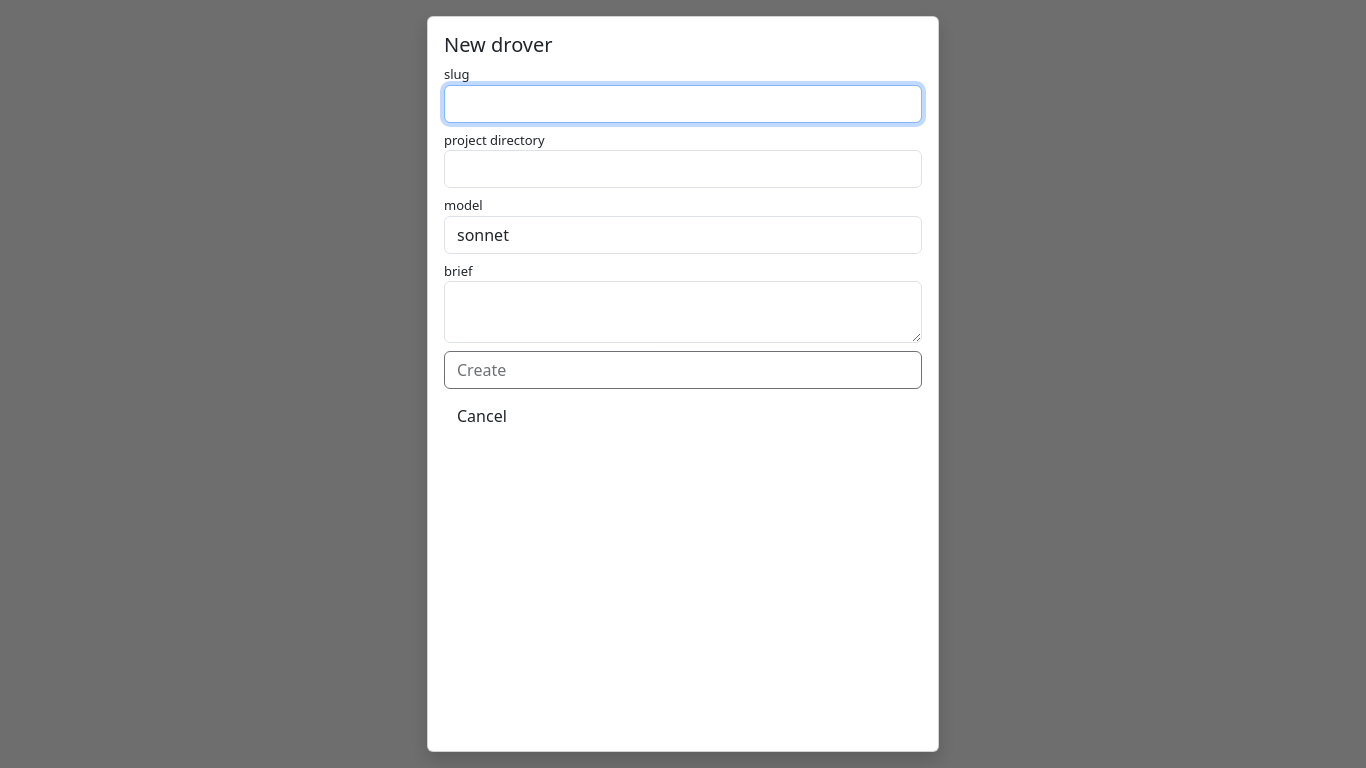
Test: NewDroverDialog › validates slug, submits, shows error
In the field with test id "new-slug": (683, 104) [444,84,922,122], type "Bad Slug"
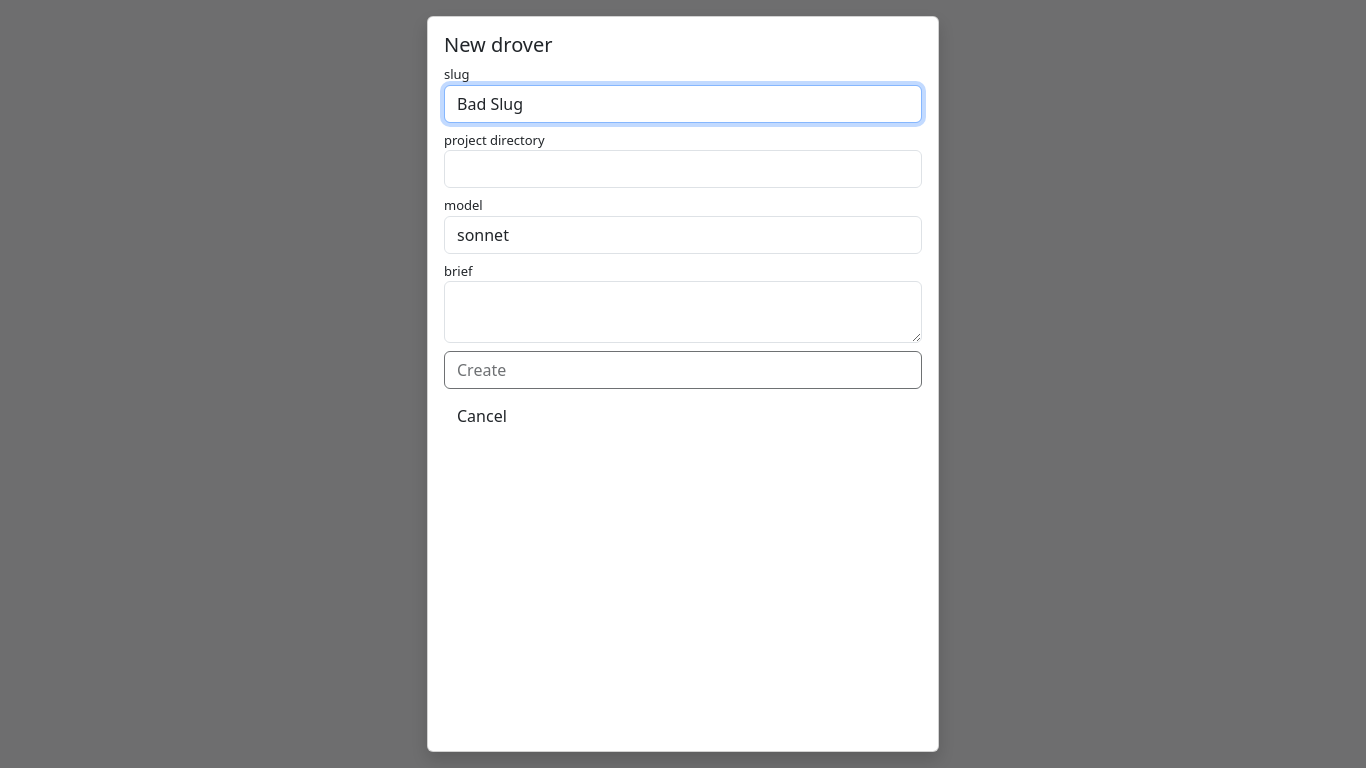
In the field with test id "new-dir": (683, 169) [444,150,922,188], type "/x"
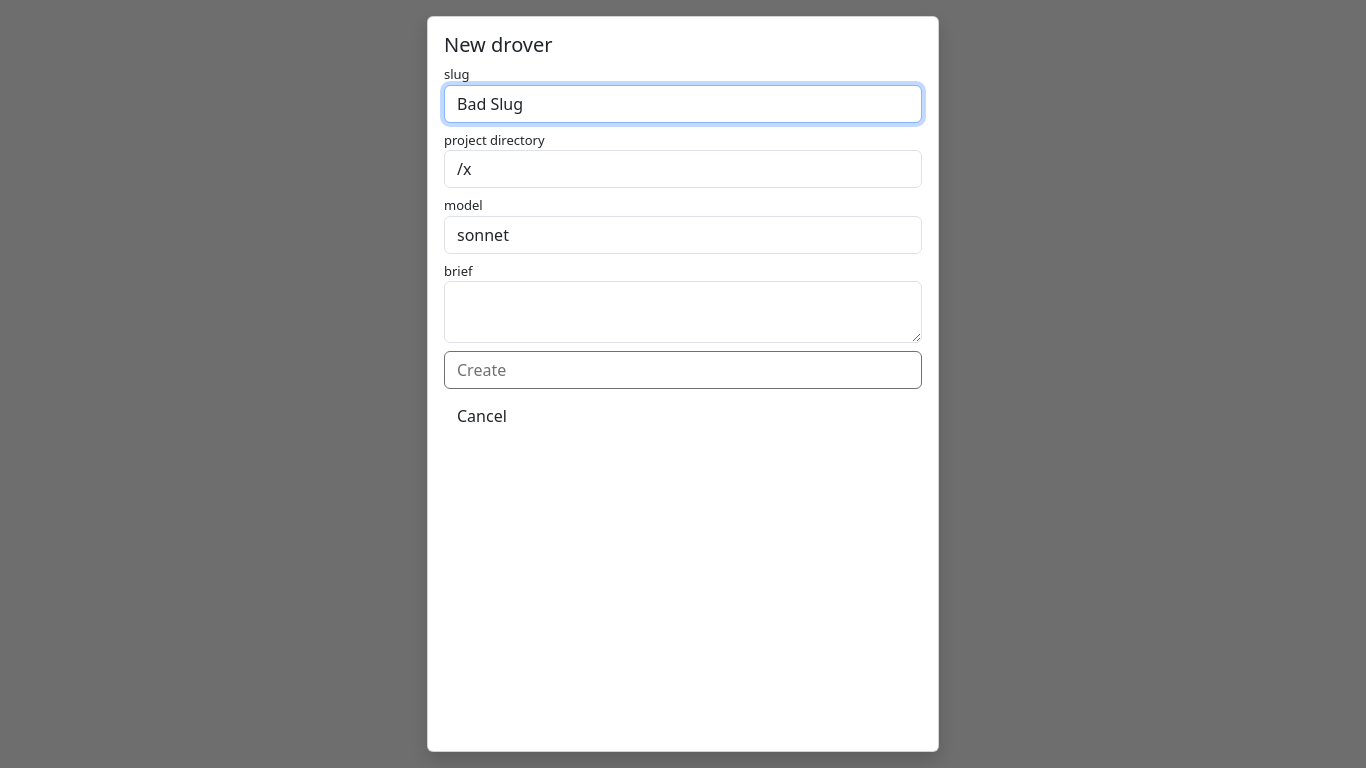
Expected: the button with test id "new-submit" is disabled, [444,351,922,389]
Replace the text in the field with test id "new-slug" with "good-slug": (683, 104) [444,84,922,122]
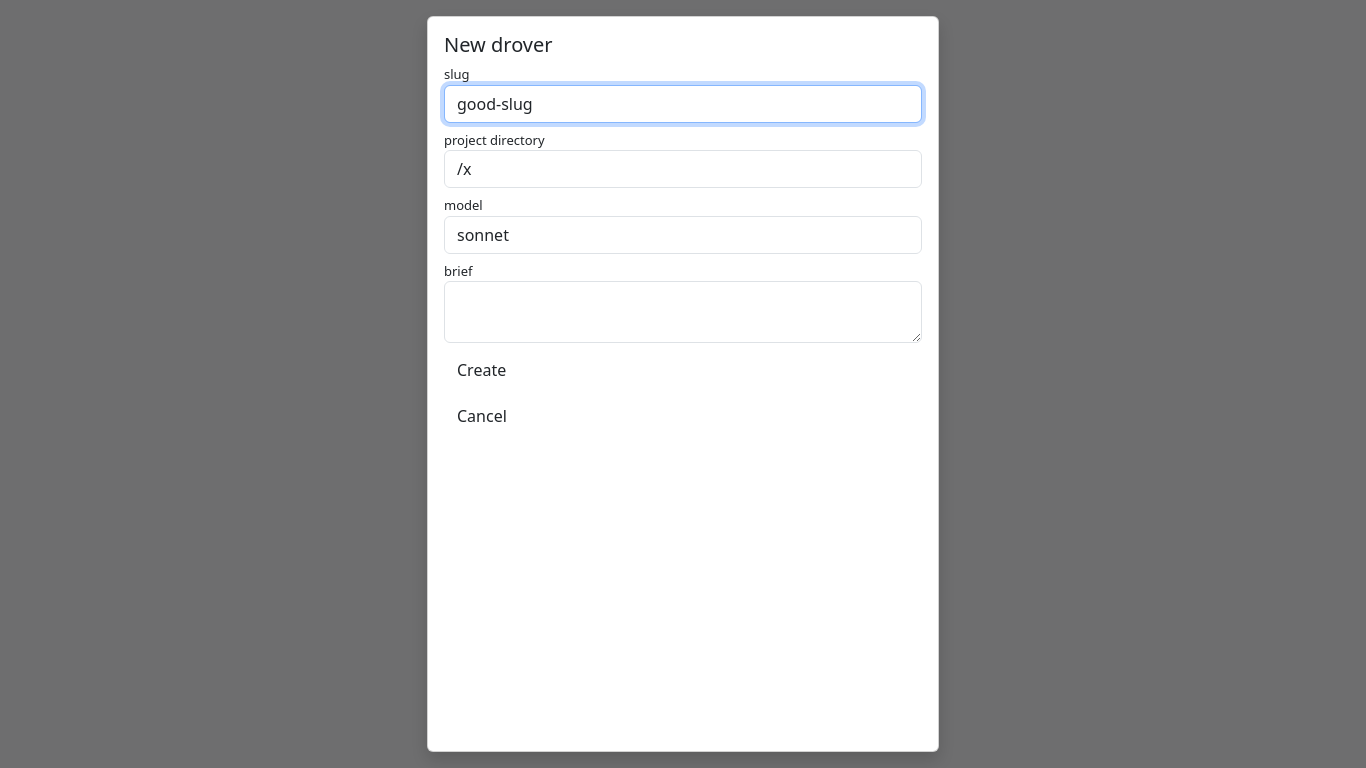
Result: the button with test id "new-submit" is enabled
Click the button with test id "new-submit": (482, 370) [444,351,922,389]
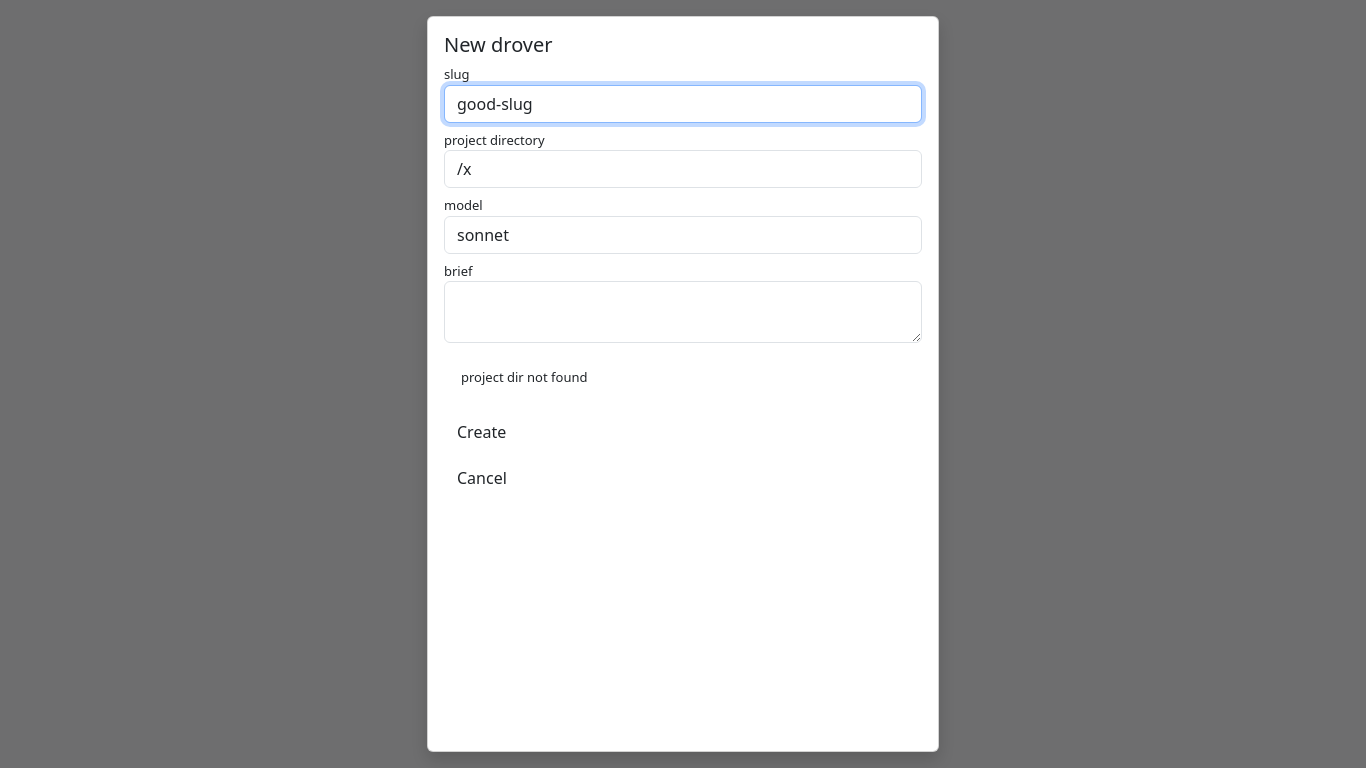
Result: the message with test id "new-error" reads "project dir not found" at [461,368,588,386]
